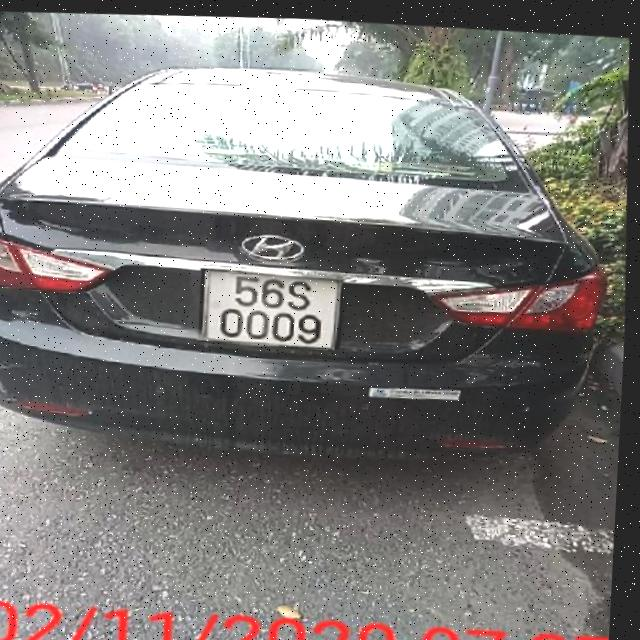car: (0, 10, 639, 488)
plate: (192, 257, 347, 359)
